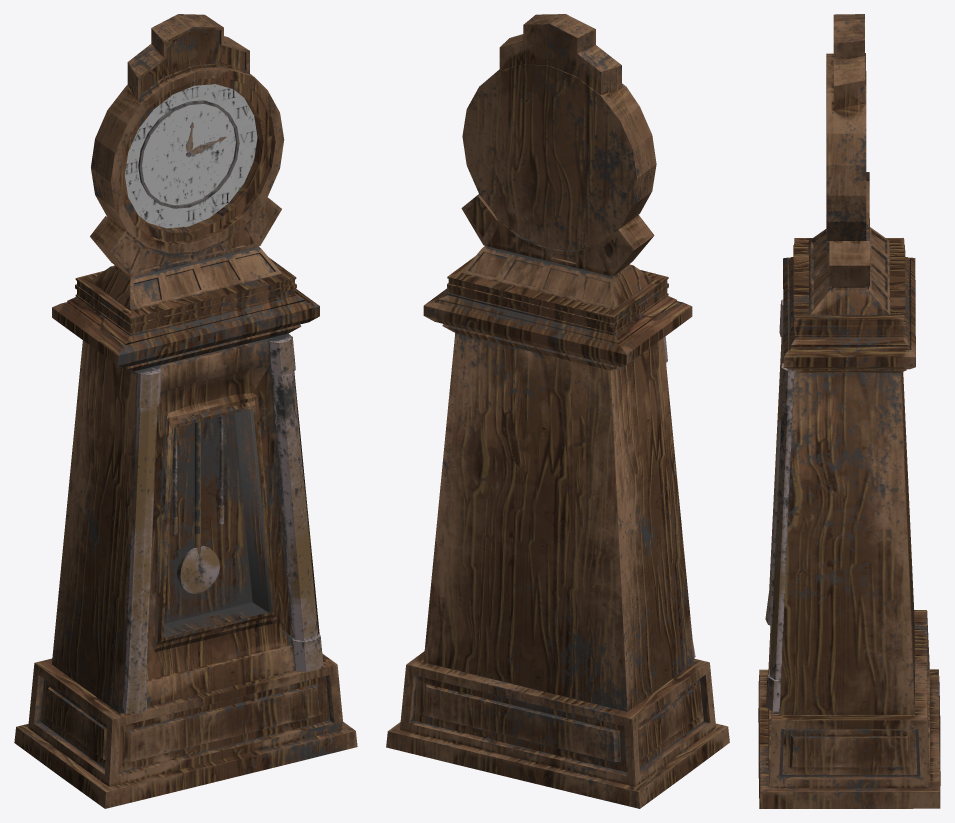
Rendered from M_OldClock 1.fbx.
3 renders of one model, left to right at view 1: azimuth 30°, elevation 25°; view 2: azimuth 150°, elevation 25°; view 3: azimuth 270°, elevation 25°, orthographic.
Visible parts, largest first — view 1: grandfatherclock_GEO; view 2: grandfatherclock_GEO; view 3: grandfatherclock_GEO.
Part boxes in pixels (left/top/right/bottom): grandfatherclock_GEO: left=14, top=14, right=357, bottom=808; grandfatherclock_GEO: left=386, top=14, right=729, bottom=808; grandfatherclock_GEO: left=758, top=14, right=940, bottom=808.
Bounding box in the file's own units: 99.52 × 272 × 61.75.
1 material, 1 textured.
